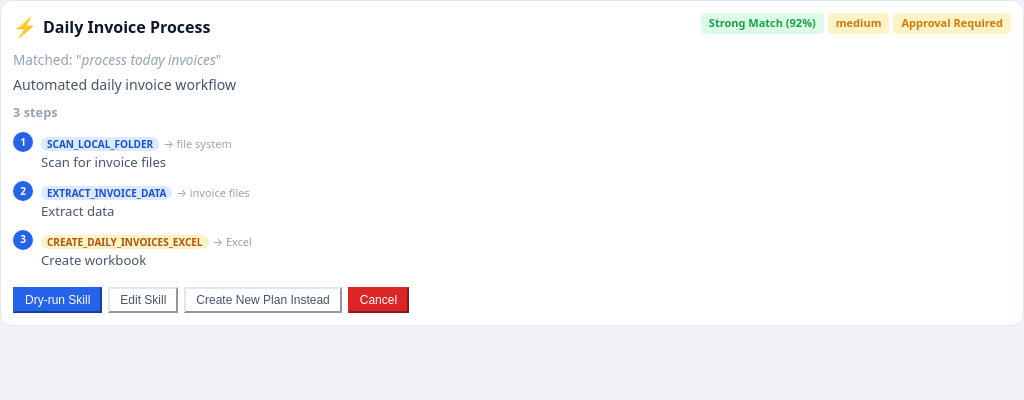
Test: SkillMatchCard › shows dry-run success message
Click the button "Dry-run Skill": [58, 300] box [13,286,102,312]
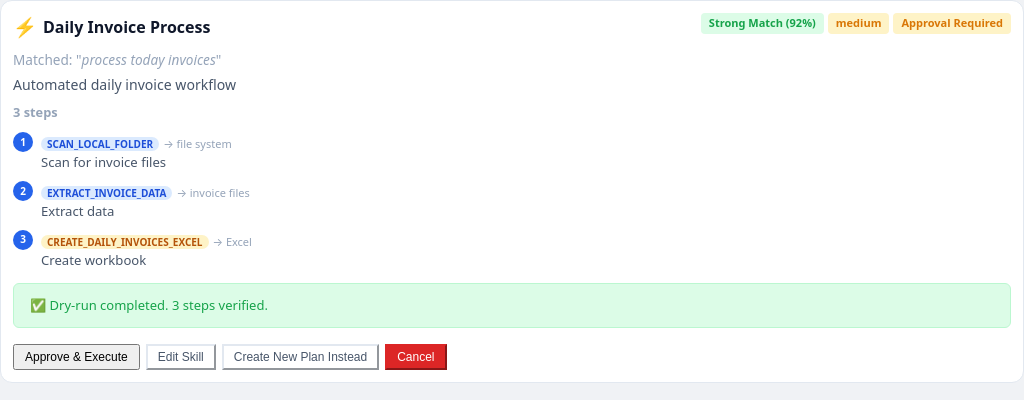
Now the text "✅ Dry-run completed. 3 steps verified." is shown, box [13,282,1011,328]
Now the button "Approve & Execute" is shown, box [13,344,140,370]
